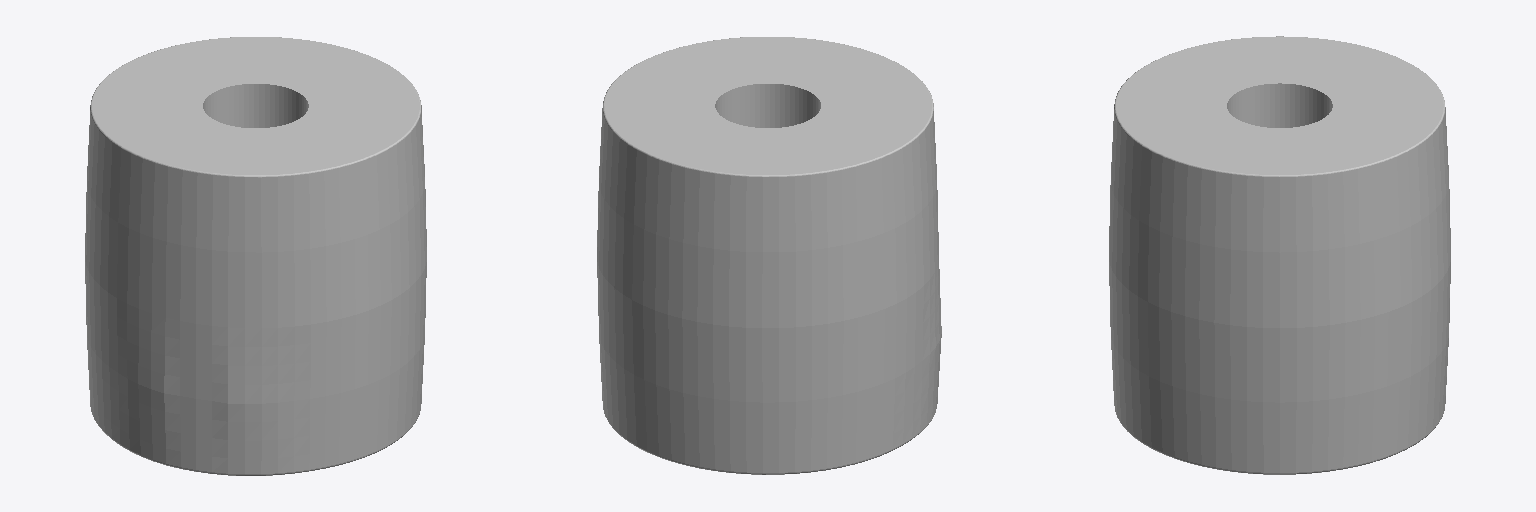
The model's file is Toilet Paper roll.obj.
3 renders of one model, left to right at view 1: azimuth 30°, elevation 25°; view 2: azimuth 150°, elevation 25°; view 3: azimuth 270°, elevation 25°, orthographic.
Visible parts, largest first — view 1: Toilet_Paper_Roll_Torus; view 2: Toilet_Paper_Roll_Torus; view 3: Toilet_Paper_Roll_Torus.
Boxes of the visible parts, x1,y1,x2,y2 form: Toilet_Paper_Roll_Torus: [85, 37, 426, 475]; Toilet_Paper_Roll_Torus: [597, 37, 941, 474]; Toilet_Paper_Roll_Torus: [1109, 36, 1450, 474].
Bounding box in the file's own units: 0.6203 × 0.6001 × 0.6203.